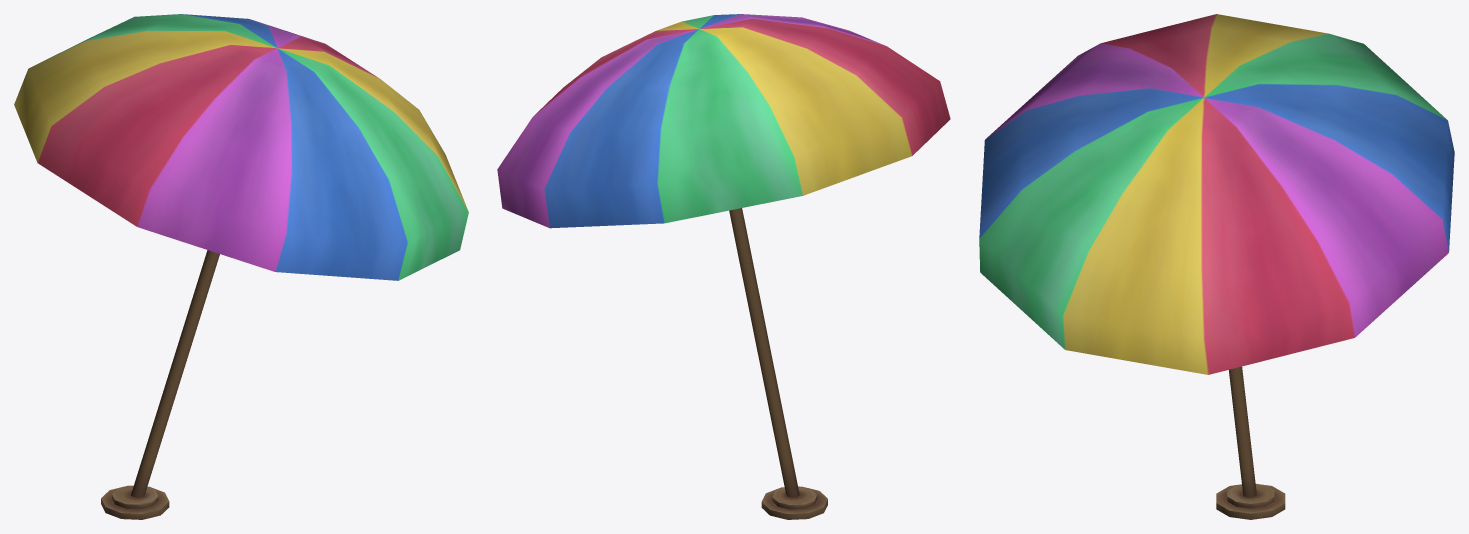
Rendered from ETC0610047.fbx.
The picture shows the model from 3 angles, left to right: view 1: azimuth 30°, elevation 25°; view 2: azimuth 150°, elevation 25°; view 3: azimuth 270°, elevation 25°; orthographic projection. The views are drawn at different scales.
Visible parts, largest first — view 1: smETC0610047; view 2: smETC0610047; view 3: smETC0610047.
Boxes of the visible parts, x1,y1,x2,y2 form: smETC0610047: (14,14,468,519); smETC0610047: (497,14,950,519); smETC0610047: (979,14,1454,519).
Bounding box in the file's own units: 280 × 308 × 275.
Materials: 1 (1 with a texture image).
